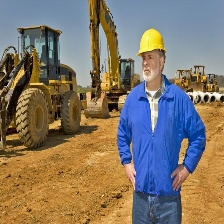helmet: (136, 27, 169, 59)
person: (113, 24, 193, 224)
vest: (122, 80, 193, 196)
